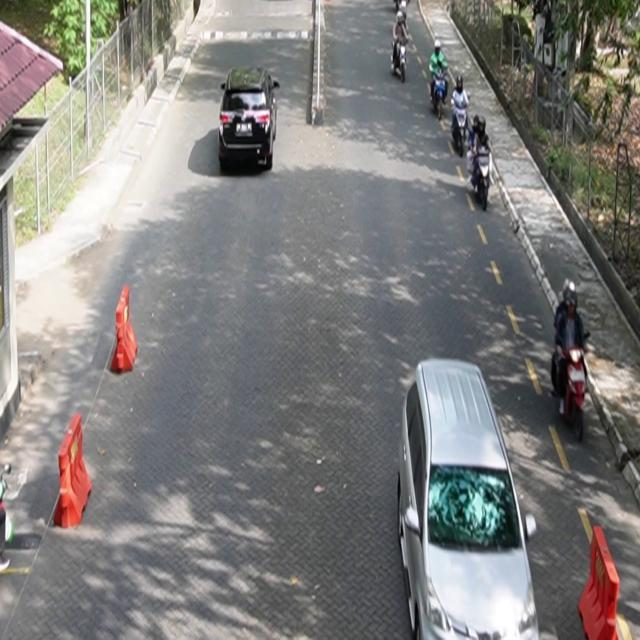car: (398, 358, 541, 640), (219, 65, 281, 172)
